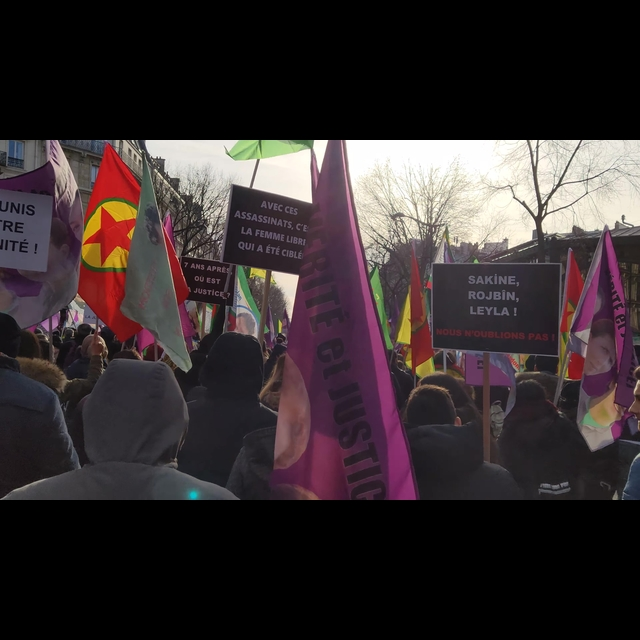PKK: (77, 139, 141, 341), (407, 239, 438, 382)
